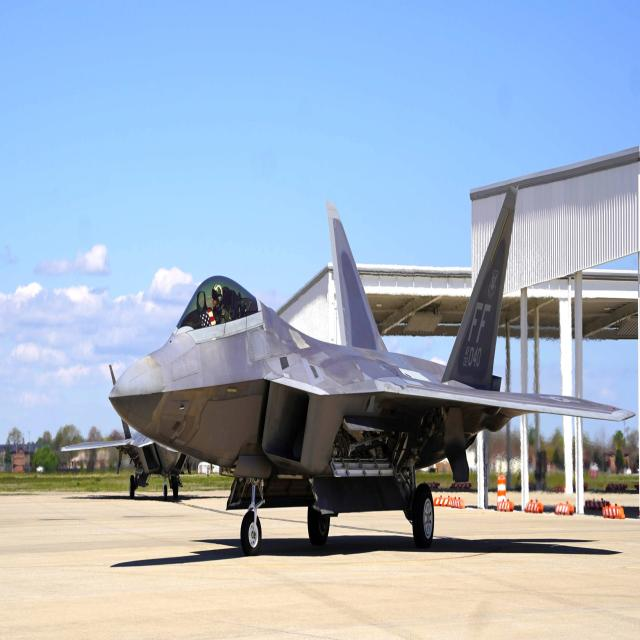F22: (80, 156, 634, 608)
